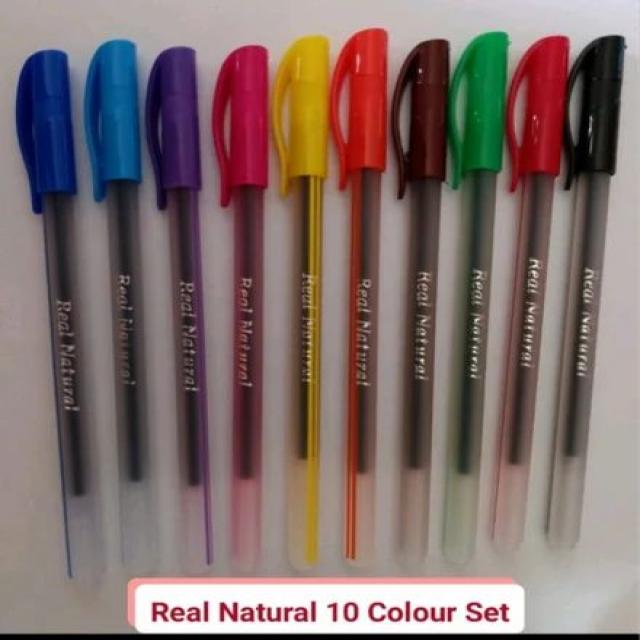pen: (13, 44, 134, 598), (83, 40, 176, 625), (146, 37, 236, 582), (209, 44, 289, 570), (275, 39, 335, 580), (326, 46, 388, 563), (386, 30, 441, 557), (512, 40, 546, 565), (458, 26, 489, 569), (570, 31, 599, 546)
